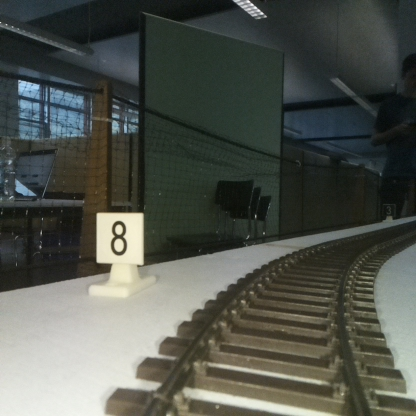black-stop-3: (383, 203, 394, 222)
white-stop-8: (96, 213, 142, 297)
